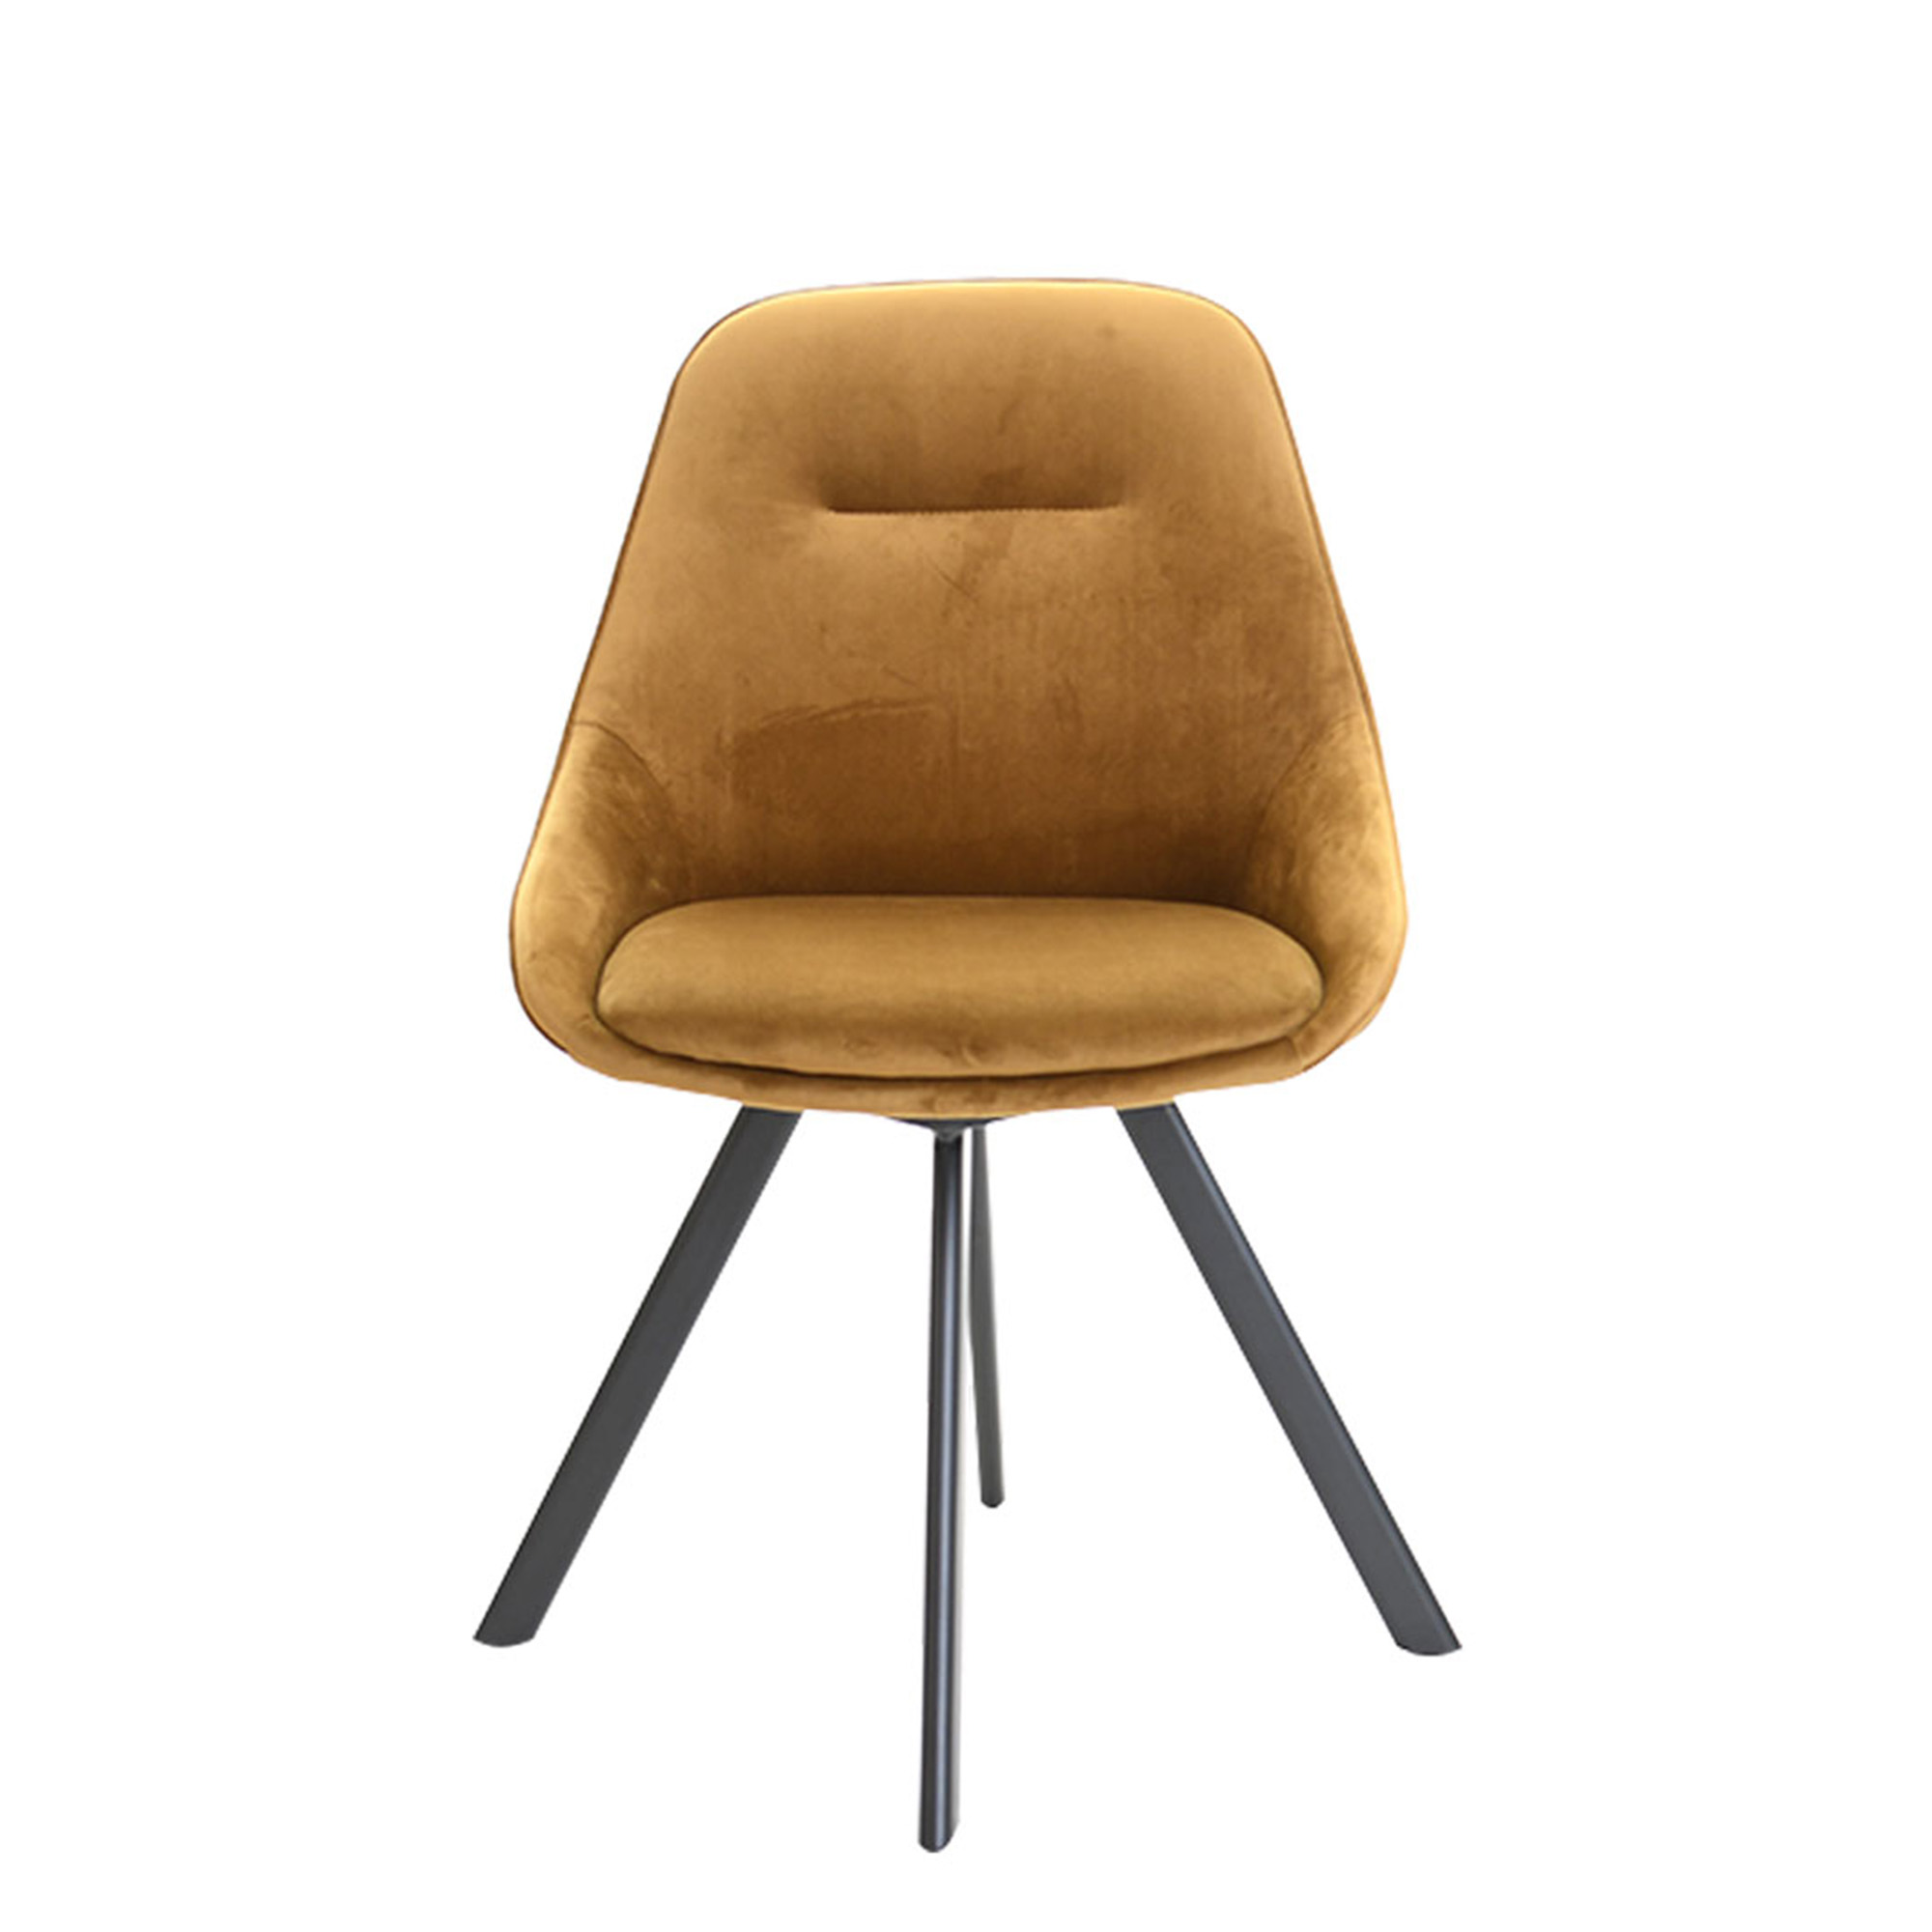kursi: (478, 269, 1463, 1882)
